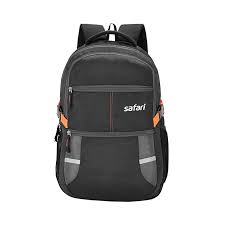backpack: (54, 22, 169, 201)
